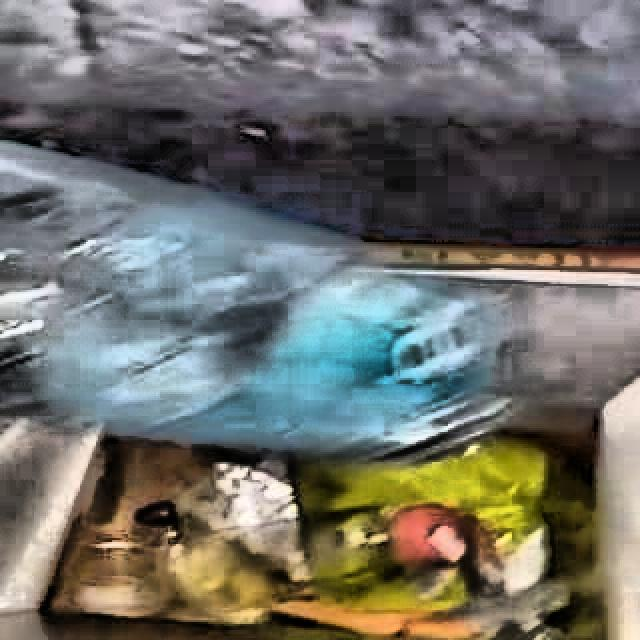plastic: (0, 146, 507, 460)
